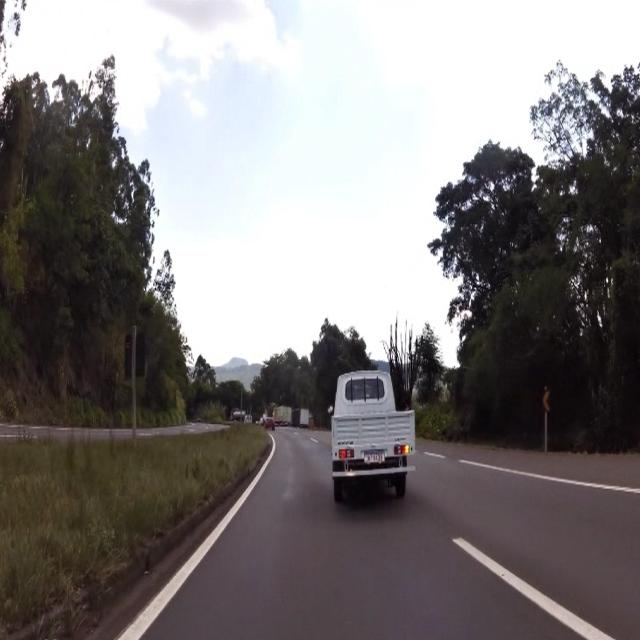Del: (537, 385, 555, 416)
